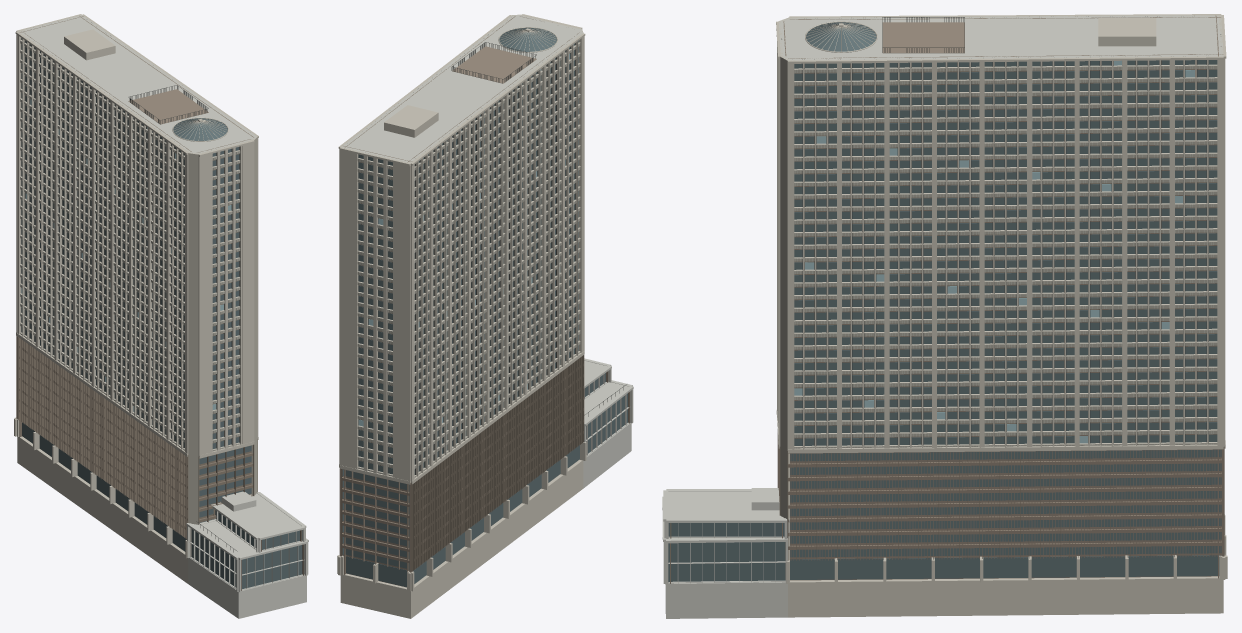
File: millennium_plaza.glb
3 views of the same model, side by side, from view 1: azimuth 30°, elevation 25°; view 2: azimuth 150°, elevation 25°; view 3: azimuth 270°, elevation 25° (orthographic). The views are drawn at different scales.
Parts seen in each view (by area): view 1: Millennium pale concrete piers, Millennium light roof membrane, Millennium recessed residential glass, Millennium brown ribbed office panels, Millennium fluted residential spandrels, Millennium dark sash and deck railing, Millennium brown terrace pavers; view 2: Millennium pale concrete piers, Millennium recessed residential glass, Millennium brown ribbed office panels, Millennium light roof membrane, Millennium fluted residential spandrels, Millennium dark sash and deck railing, Millennium brown terrace pavers; view 3: Millennium recessed residential glass, Millennium pale concrete piers, Millennium brown ribbed office panels, Millennium fluted residential spandrels, Millennium light roof membrane, Millennium dark sash and deck railing, Millennium brown terrace pavers, Night Millennium occupied panes.
Part boxes in pixels (x1=…): Millennium pale concrete piers: x1=14, y1=14, x2=258, y2=583; Millennium light roof membrane: x1=18, y1=15, x2=308, y2=618; Millennium recessed residential glass: x1=21, y1=38, x2=304, y2=589; Millennium brown ribbed office panels: x1=16, y1=16, x2=304, y2=590; Millennium fluted residential spandrels: x1=20, y1=41, x2=240, y2=450; Millennium dark sash and deck railing: x1=24, y1=22, x2=239, y2=552; Millennium brown terrace pavers: x1=128, y1=89, x2=208, y2=124; Millennium pale concrete piers: x1=337, y1=14, x2=586, y2=618; Millennium recessed residential glass: x1=342, y1=27, x2=627, y2=587; Millennium brown ribbed office panels: x1=339, y1=16, x2=629, y2=587; Millennium light roof membrane: x1=341, y1=15, x2=633, y2=488; Millennium fluted residential spandrels: x1=357, y1=43, x2=580, y2=477; Millennium dark sash and deck railing: x1=358, y1=34, x2=626, y2=474; Millennium brown terrace pavers: x1=452, y1=46, x2=536, y2=83; Millennium recessed residential glass: x1=668, y1=22, x2=1221, y2=581; Millennium pale concrete piers: x1=776, y1=14, x2=1227, y2=617; Millennium brown ribbed office panels: x1=670, y1=15, x2=1224, y2=583; Millennium fluted residential spandrels: x1=794, y1=66, x2=1217, y2=448; Millennium light roof membrane: x1=662, y1=15, x2=1223, y2=618; Millennium dark sash and deck railing: x1=781, y1=16, x2=1221, y2=447; Millennium brown terrace pavers: x1=882, y1=22, x2=964, y2=53; Night Millennium occupied panes: x1=794, y1=60, x2=1194, y2=443.
Bounding box in the file's own units: 24.33 × 130 × 117.
